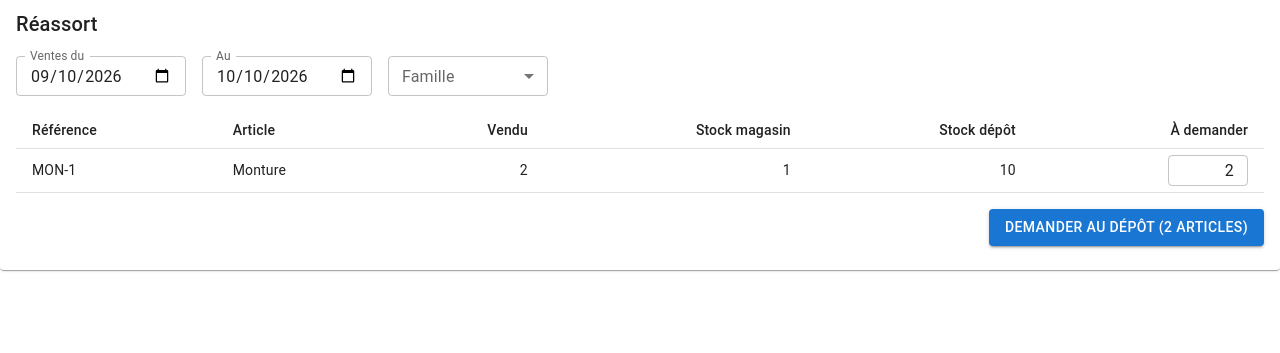
Test: le réassort part en demande d'alimentation au dépôt
The width and height of the screenshot is (1280, 353).
Replace the text in the field named "Demander Monture" with "1" at (1208, 170), box [1168, 155, 1248, 186]
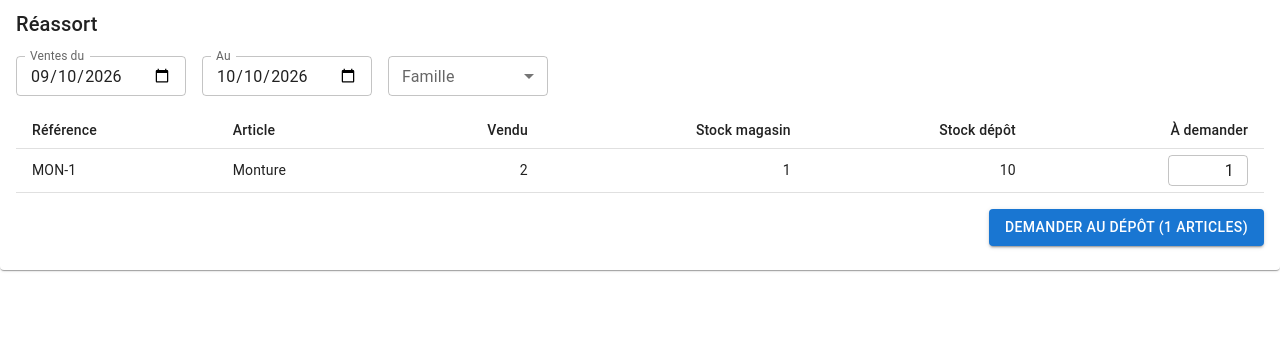
Click the button "Demander au dépôt (1 articles)".
click(1126, 227)  # box [989, 209, 1264, 246]
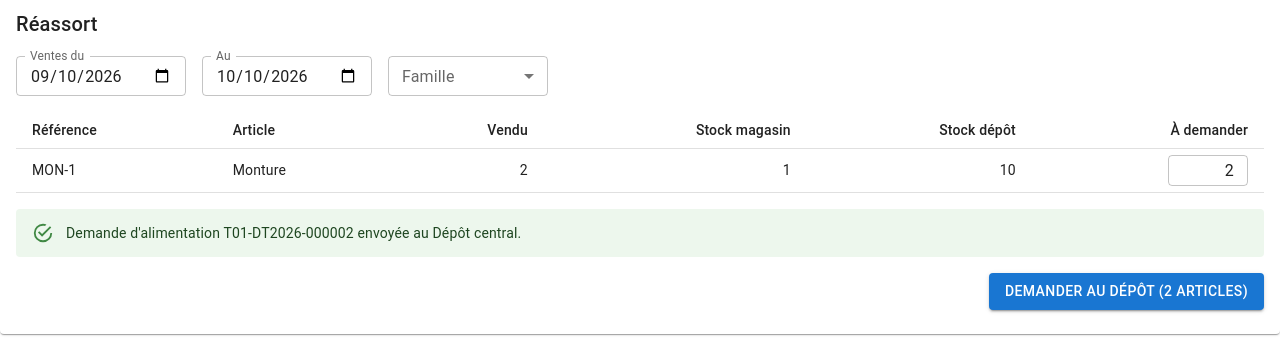
Check: the text "T01-DT2026-000002 envoyée" is shown, box [66, 225, 521, 241]
